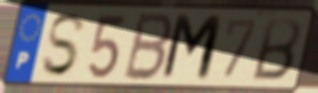5: (85, 12, 130, 81)
7: (222, 17, 259, 82)
B: (120, 11, 177, 84), (249, 16, 303, 83)
M: (158, 12, 226, 84)
S: (40, 12, 88, 80)
